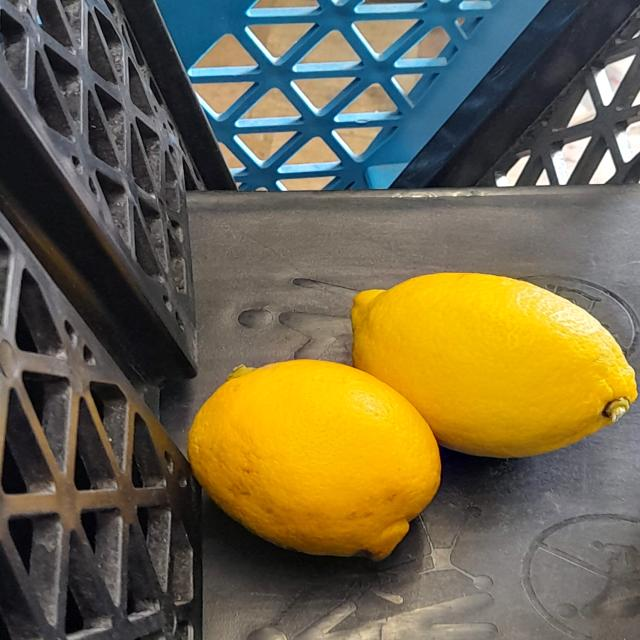lemon: (351, 261, 640, 463), (192, 353, 449, 578)
